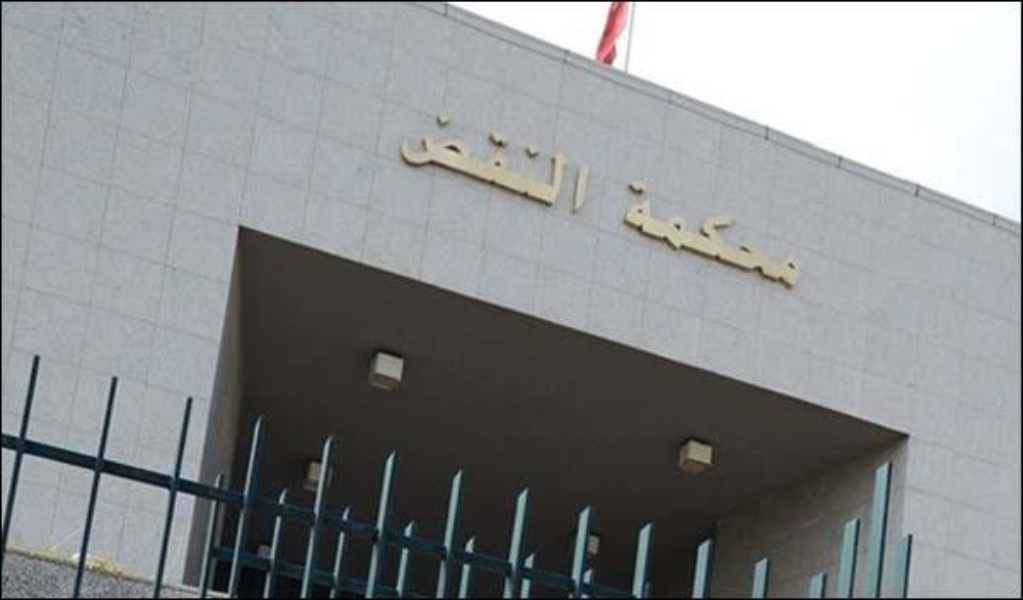text: (625, 174, 640, 297), (641, 174, 656, 297), (657, 174, 672, 297), (673, 174, 688, 297), (689, 174, 704, 297), (705, 174, 720, 297), (721, 174, 736, 297), (737, 174, 752, 297), (753, 174, 768, 297), (769, 174, 784, 297), (785, 174, 800, 297), (433, 106, 448, 222), (449, 106, 464, 222), (465, 106, 480, 222), (481, 106, 496, 222), (497, 106, 512, 222), (513, 106, 528, 222), (529, 106, 544, 222), (545, 106, 560, 222), (561, 106, 576, 222), (577, 106, 592, 222), (801, 174, 805, 297), (428, 106, 432, 222), (593, 106, 594, 222)
